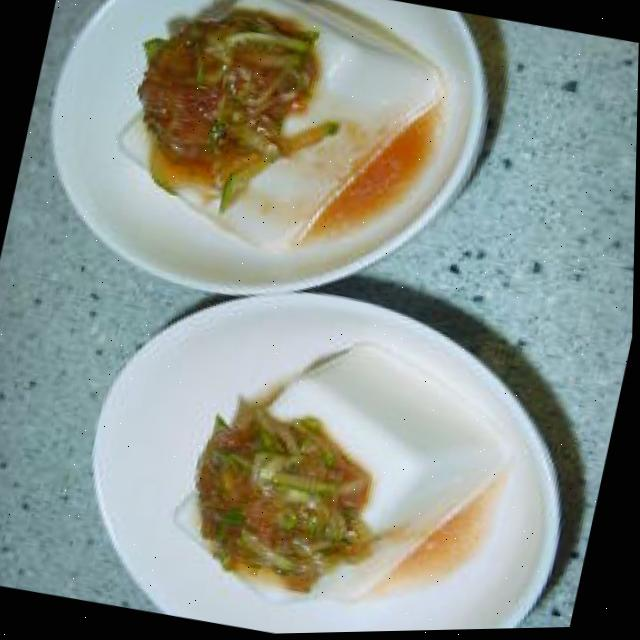豆腐料理: (160, 0, 640, 503)
